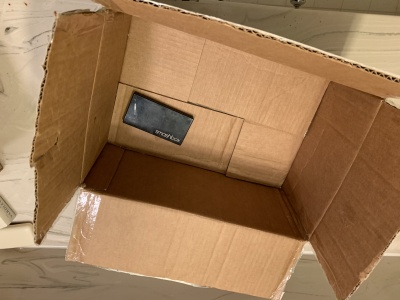innerbox: (100, 34, 314, 224)
outerbox: (43, 1, 400, 298)
product: (124, 91, 195, 148)
